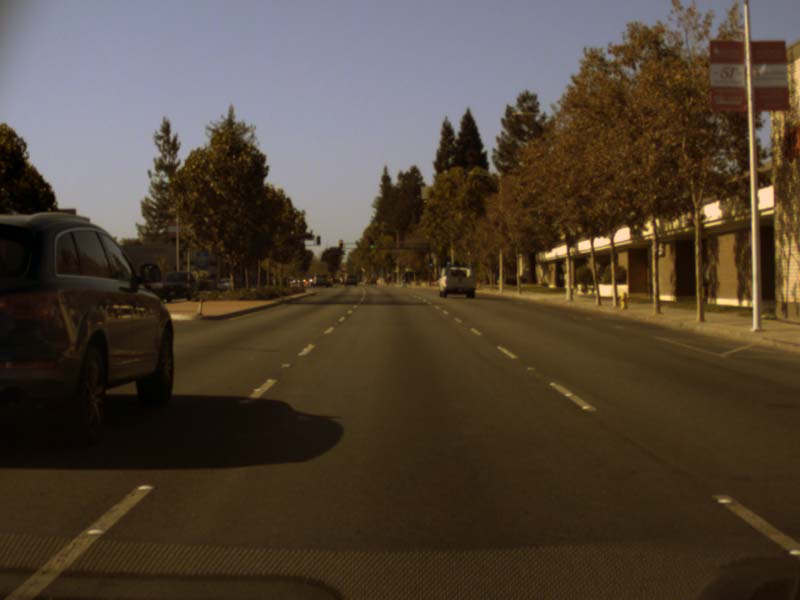Green: (445, 257, 450, 266), (369, 240, 373, 249), (428, 259, 432, 267)
Red: (338, 239, 343, 249)
